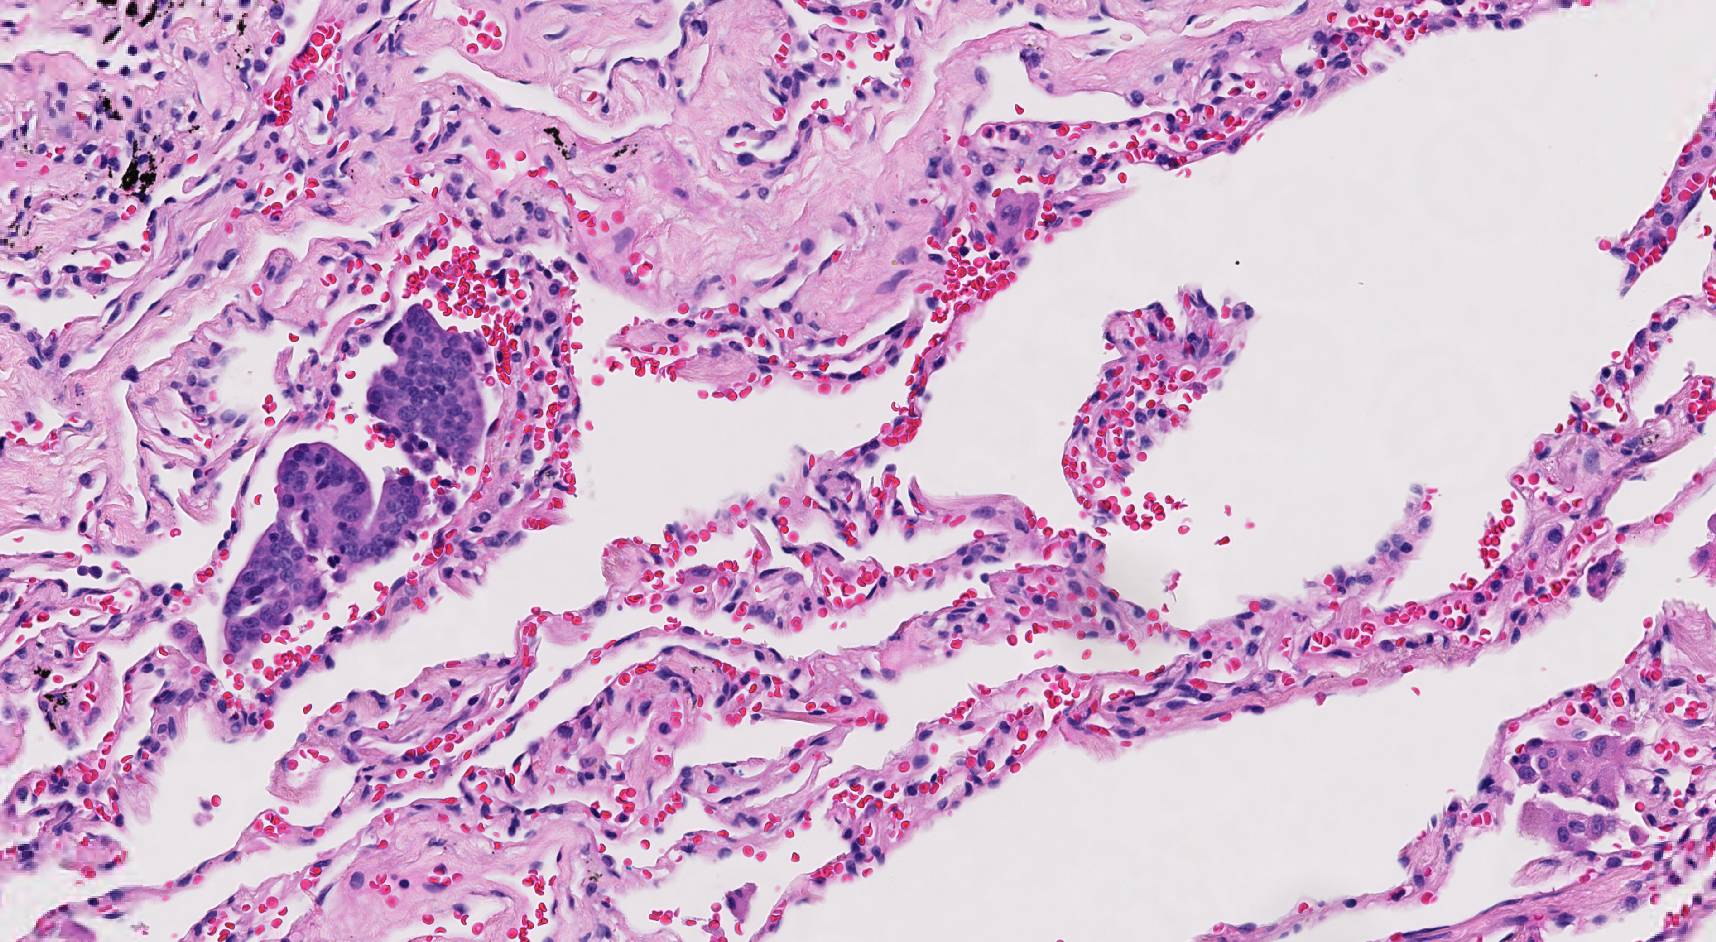stas: (227, 443, 424, 652), (364, 300, 498, 467)
